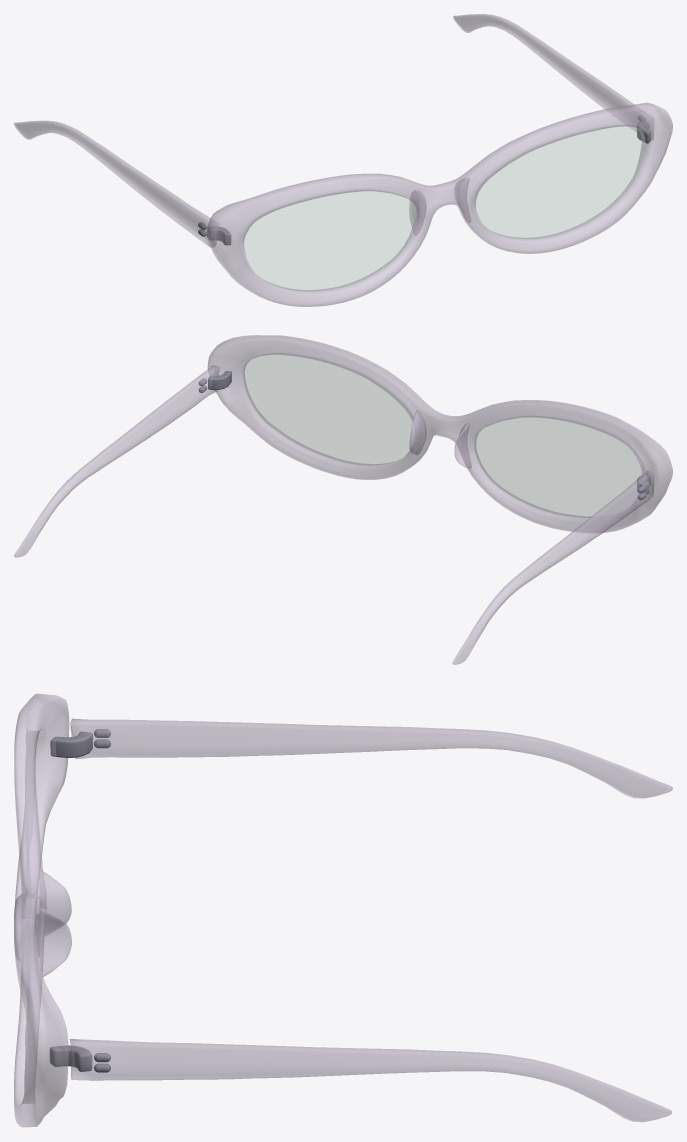
The model's file is lemonade.glb.
The picture shows the model from 3 angles, top to bottom: view 1: azimuth 30°, elevation 25°; view 2: azimuth 150°, elevation 25°; view 3: azimuth 270°, elevation 25°; orthographic projection. The views are drawn at different scales.
Parts seen in each view (by area): view 1: model_6.005; view 2: model_6.005; view 3: model_6.005.
Part boxes in pixels (x1=…): model_6.005: x1=14, y1=14, x2=672, y2=306; model_6.005: x1=14, y1=335, x2=672, y2=664; model_6.005: x1=14, y1=693, x2=672, y2=1127.
Bounding box in the file's own units: 2.21 × 0.5738 × 1.81.
